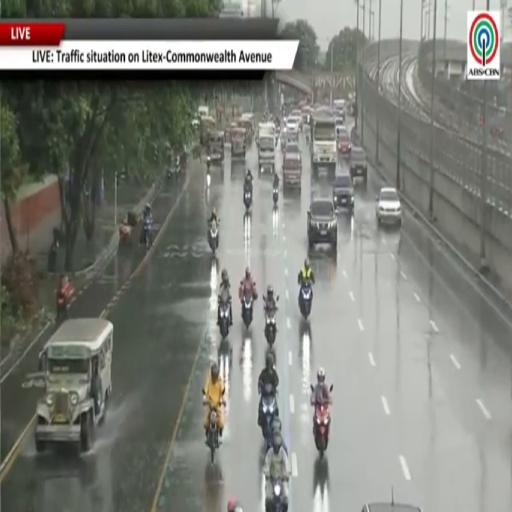car: (307, 197, 337, 249), (376, 187, 402, 225), (333, 172, 354, 211), (349, 146, 367, 182), (362, 503, 422, 511), (283, 140, 301, 165), (337, 127, 351, 156), (285, 140, 300, 154), (335, 116, 345, 126)
jeepney: (35, 318, 113, 452), (209, 131, 224, 163), (239, 114, 254, 145), (200, 117, 215, 146), (231, 128, 245, 159), (225, 122, 238, 143)
motorcycle: (203, 390, 220, 463), (262, 384, 277, 450), (314, 404, 330, 457), (268, 479, 287, 511), (298, 282, 312, 319), (265, 309, 276, 347), (219, 302, 230, 339), (242, 295, 253, 328), (56, 291, 67, 323), (209, 221, 218, 252), (144, 218, 152, 249), (244, 188, 252, 210), (207, 157, 211, 187), (273, 187, 278, 206), (207, 170, 211, 187)
truck: (311, 112, 337, 172), (258, 122, 275, 172), (282, 154, 302, 191), (198, 105, 209, 119)
